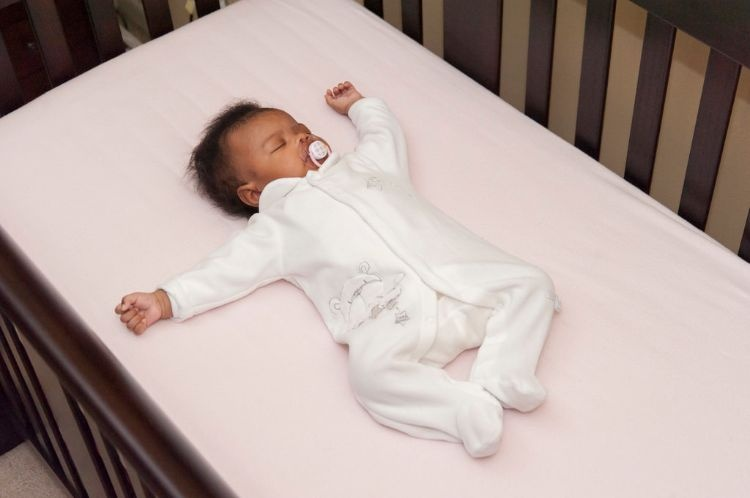baby: (116, 82, 558, 456)
crib: (98, 73, 610, 492)
